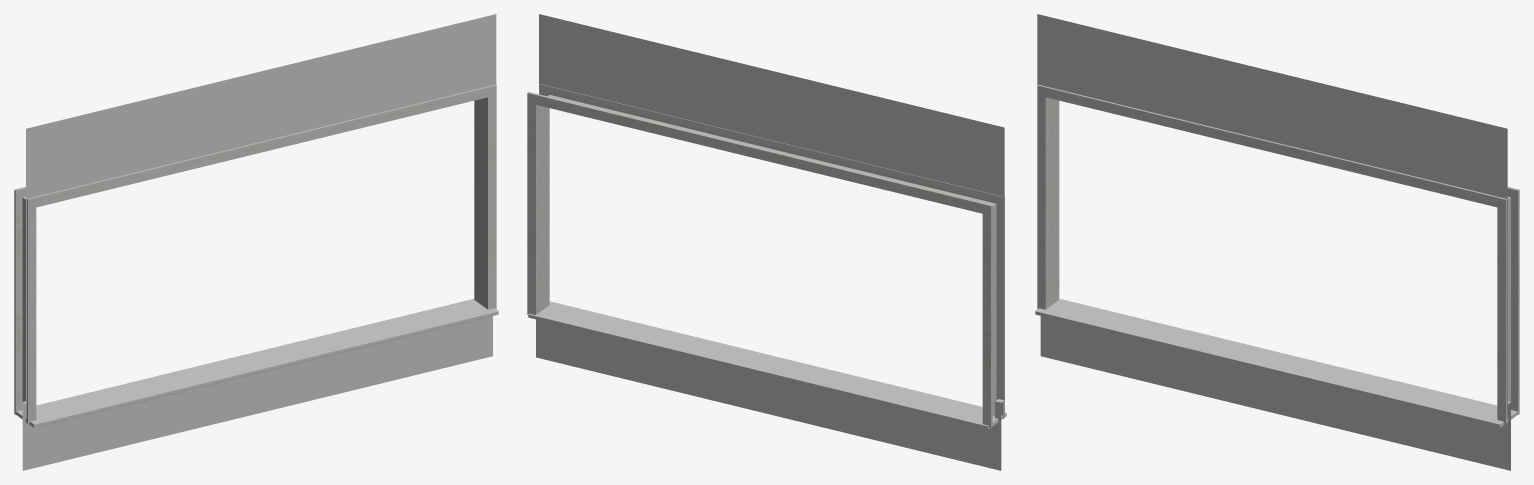
File: Wall_Door_Garage_B_5x.FBX
3 renders of one model, left to right at view 1: azimuth 30°, elevation 25°; view 2: azimuth 150°, elevation 25°; view 3: azimuth 330°, elevation 25°, orthographic.
Visible parts, largest first — view 1: Wall_Door_Garage_B_5x; view 2: Wall_Door_Garage_B_5x; view 3: Wall_Door_Garage_B_5x.
Boxes of the visible parts, x1,y1,x2,y2 form: Wall_Door_Garage_B_5x: (14,14,498,470); Wall_Door_Garage_B_5x: (527,14,1006,470); Wall_Door_Garage_B_5x: (1035,14,1519,470).
Bounding box in the file's own units: 500 × 350 × 34.48.
